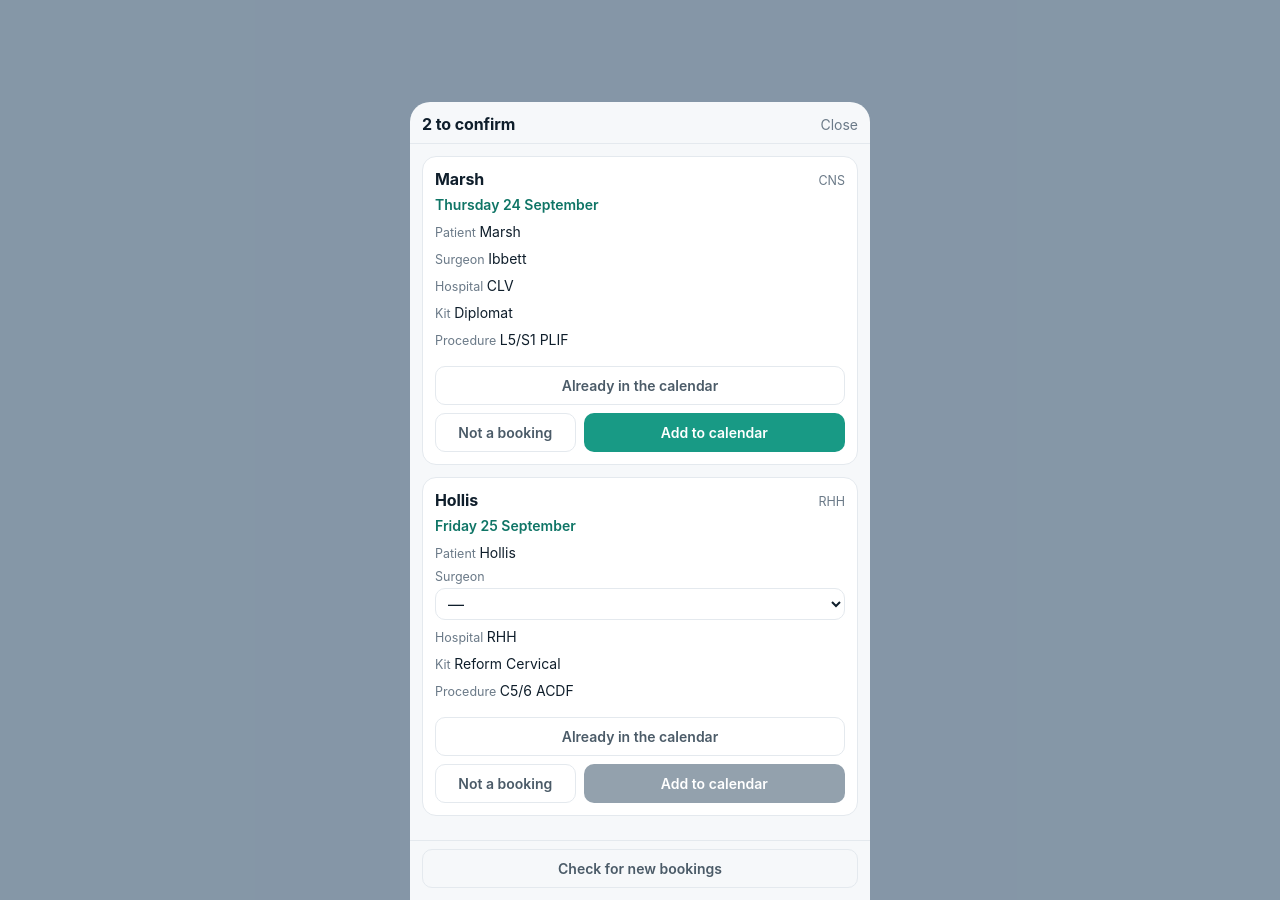
Scenario: reading the mailbox › says so when the mailbox cannot be read
Expected: the text "Marsh" next to "CNS" is shown, [435,168,484,188]
What coordinates should you click on to do the following:
click the button "Check for new bookings"
I would click on:
 (640, 868)
Its box is [422,849,858,888].
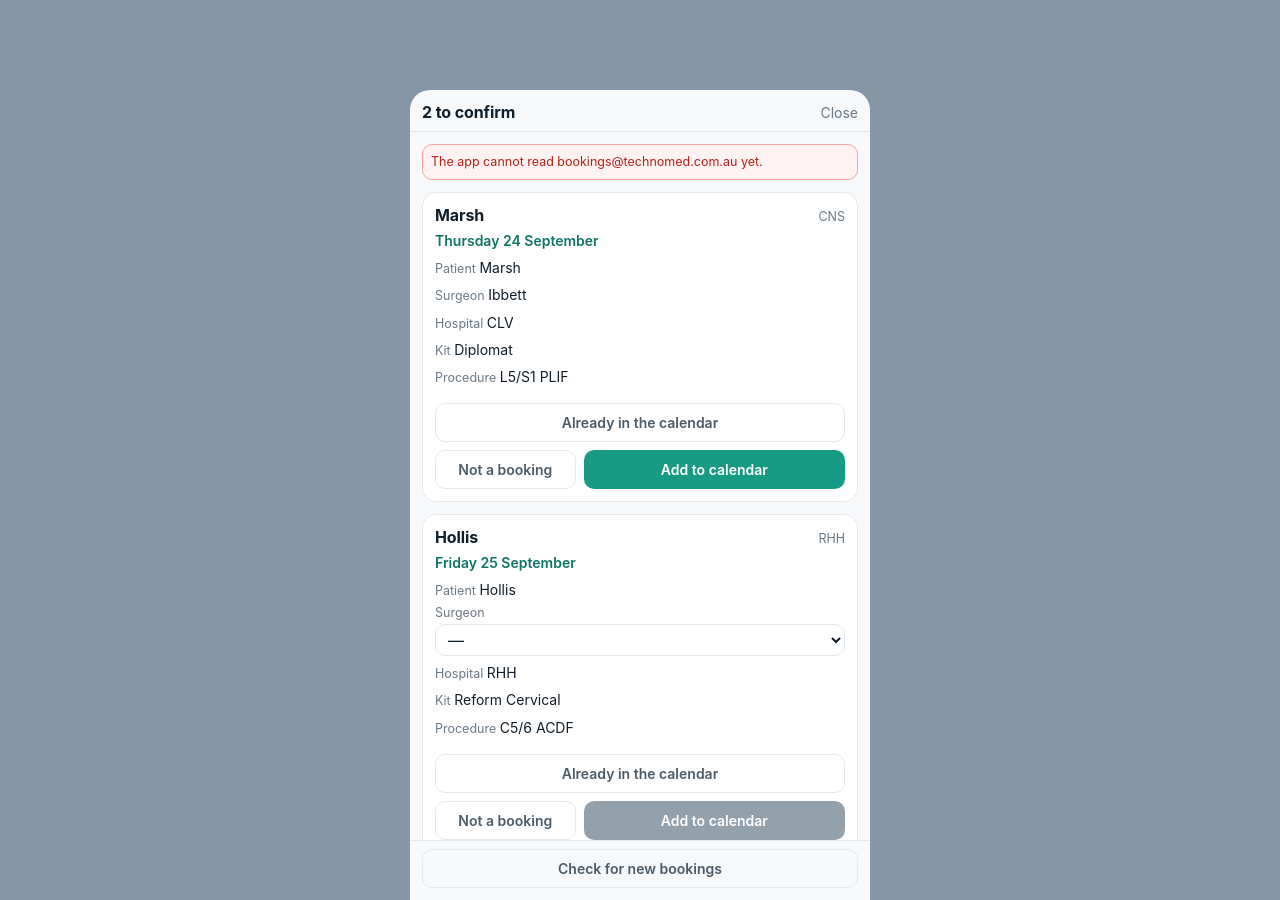
Expected: the text "The app cannot read bookings@technomed.com.au yet." is shown, [422,144,858,180]
